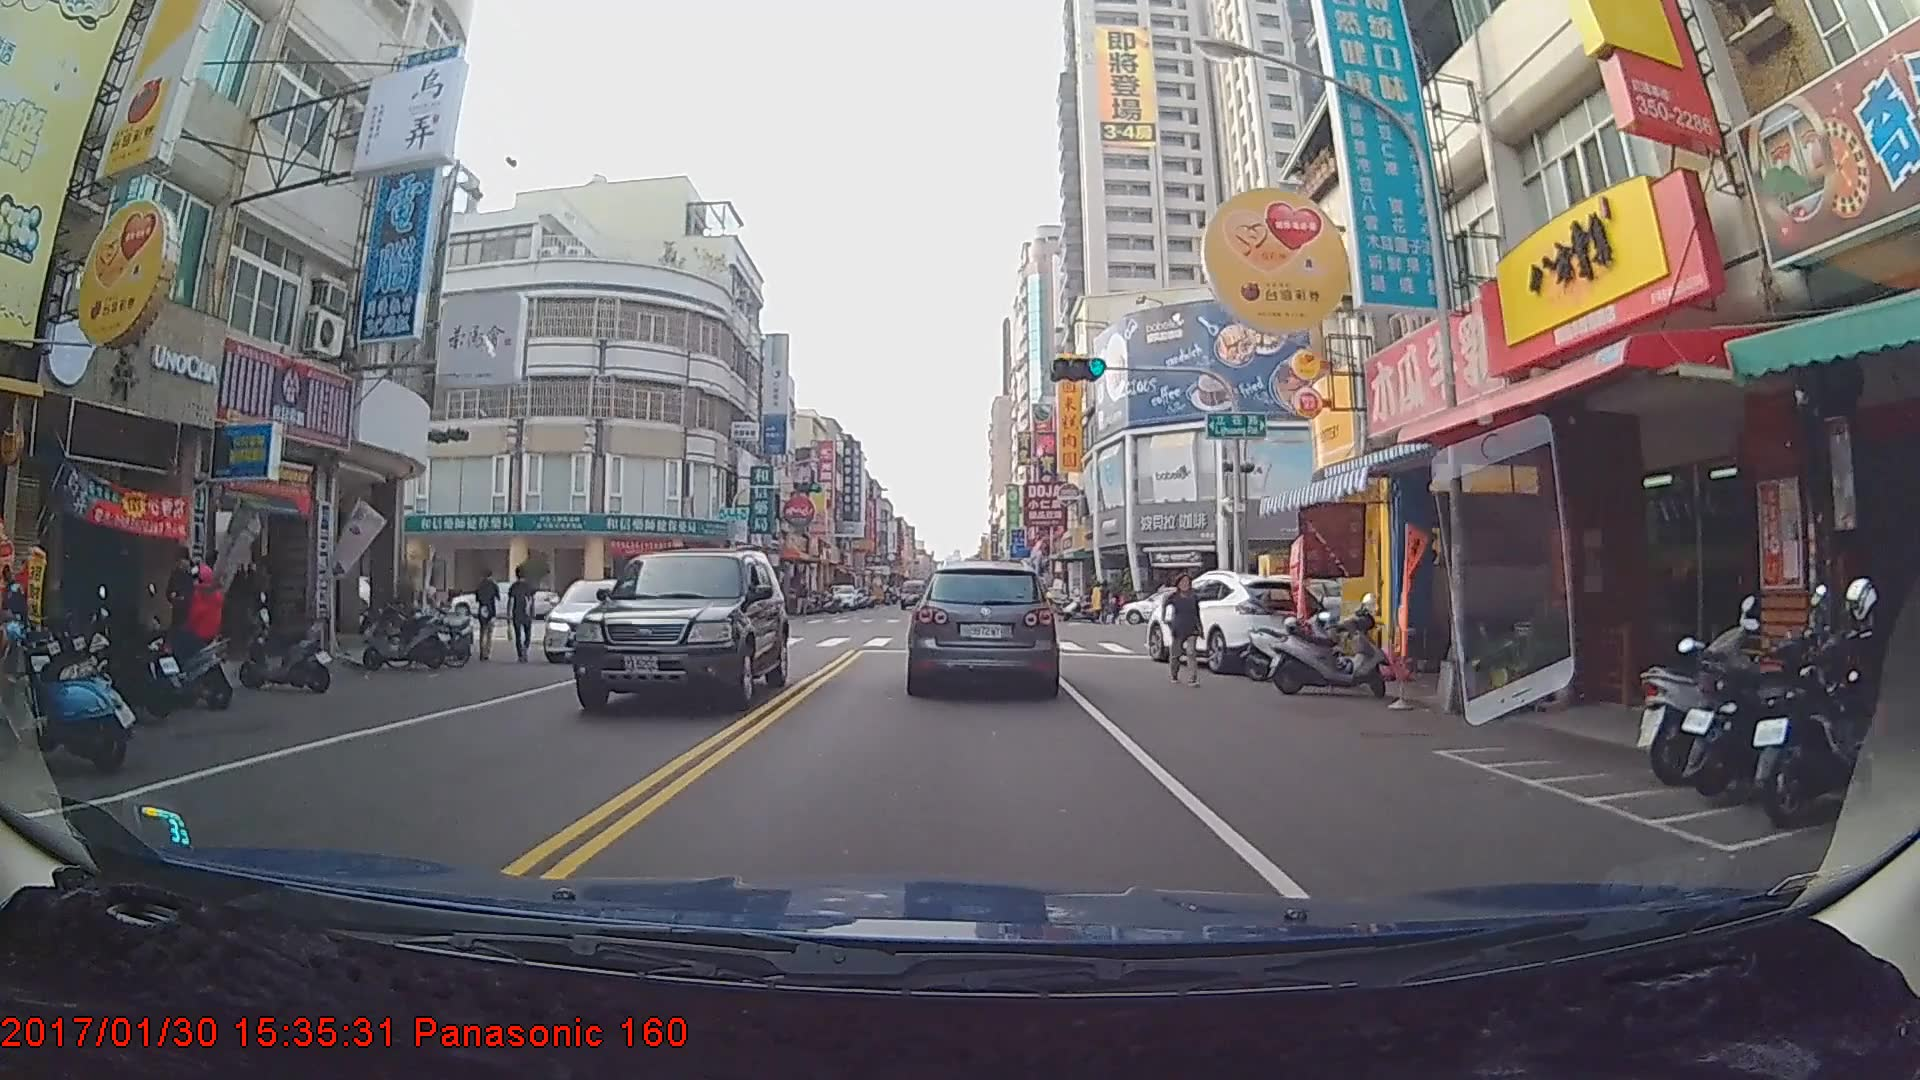pedestrian: (159, 543, 211, 677), (1165, 572, 1205, 685), (501, 563, 541, 659), (476, 570, 501, 667)
rider: (127, 561, 237, 712)
vehicle: (573, 547, 790, 712), (910, 560, 1056, 695), (1145, 571, 1337, 672), (543, 576, 661, 664), (1116, 584, 1227, 624), (826, 580, 860, 610), (898, 576, 928, 607)
